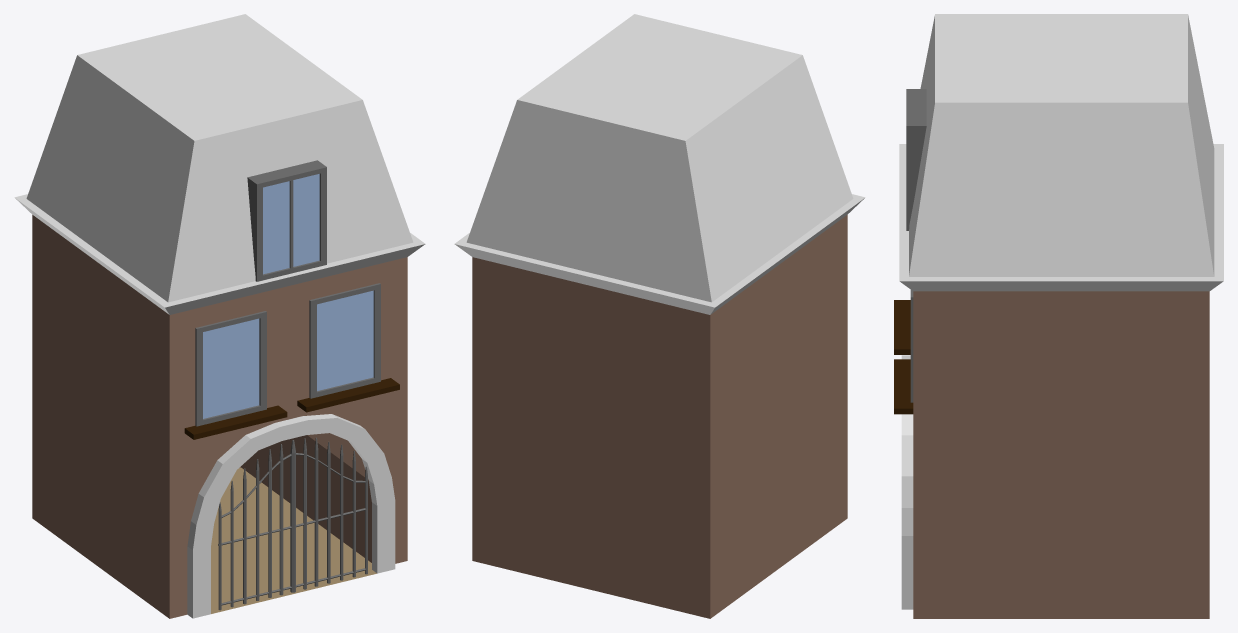
The model's file is House4Lvl2.fbx.
3 views of the same model, side by side, from view 1: azimuth 30°, elevation 25°; view 2: azimuth 150°, elevation 25°; view 3: azimuth 270°, elevation 25° (orthographic). The views are drawn at different scales.
Parts seen in each view (by area): view 1: House4Lvl2; view 2: House4Lvl2; view 3: House4Lvl2.
Boxes of the visible parts, <box> form: House4Lvl2: <box>14,14,425,618</box>; House4Lvl2: <box>454,14,865,618</box>; House4Lvl2: <box>894,14,1223,618</box>.
Size of the model in its own units: 76.54 by 130 by 77.75.
